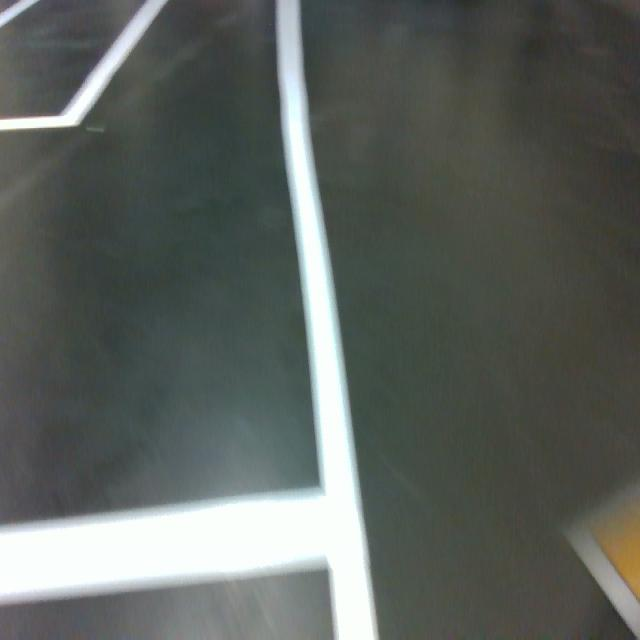priority-sign: (564, 470, 639, 640)
